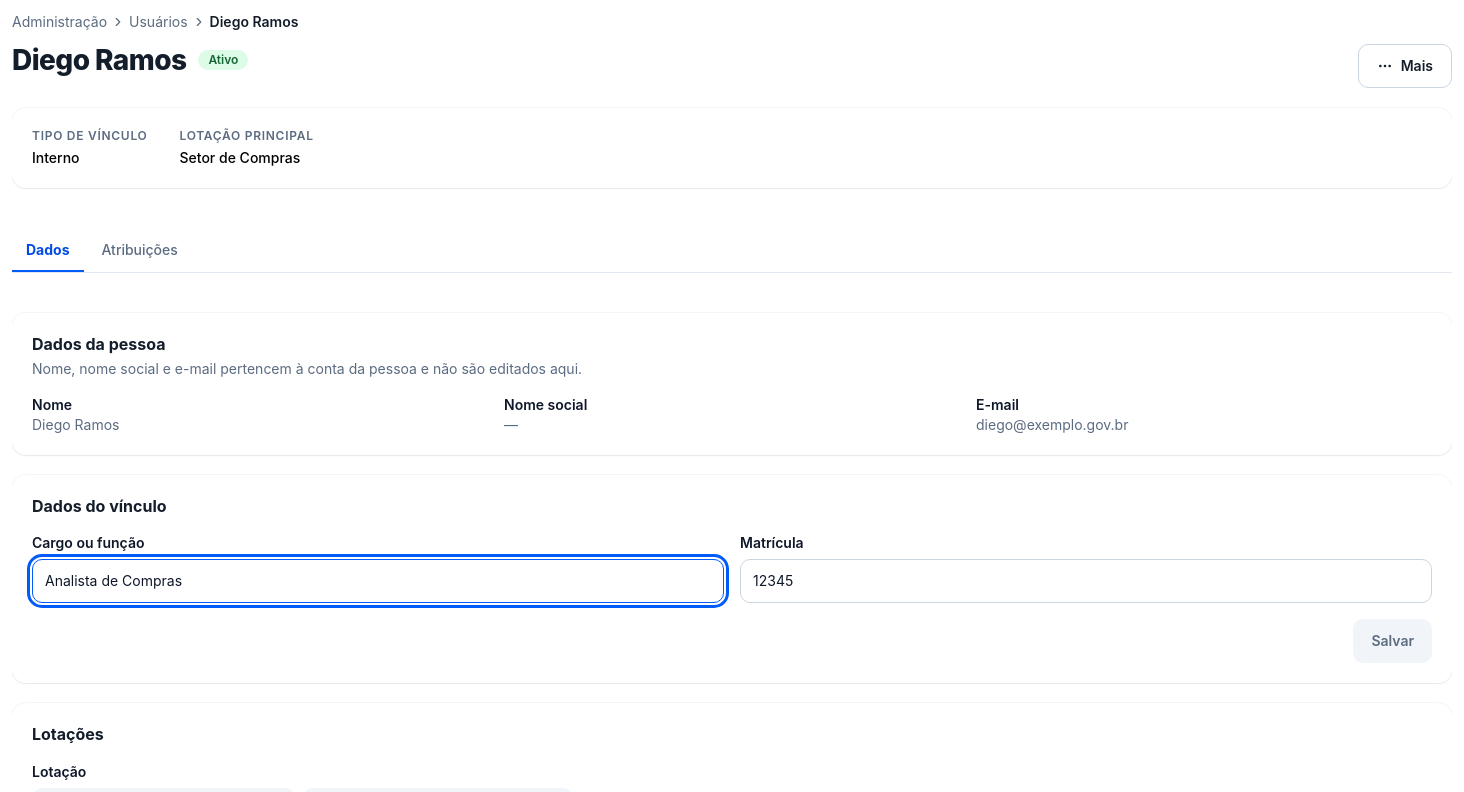
Test: SCR-029 · detalhe do usuário (US-092) › [Sucesso] edita o cargo: PATCH só com o que mudou, If-Match da versão, toast e lista invalidada
Check: the button "Salvar" is disabled, box [1353, 619, 1432, 663]
Replace the text in the field labelled "Cargo ou função" with "Coordenador de Compras" at (378, 581), box [32, 559, 724, 603]
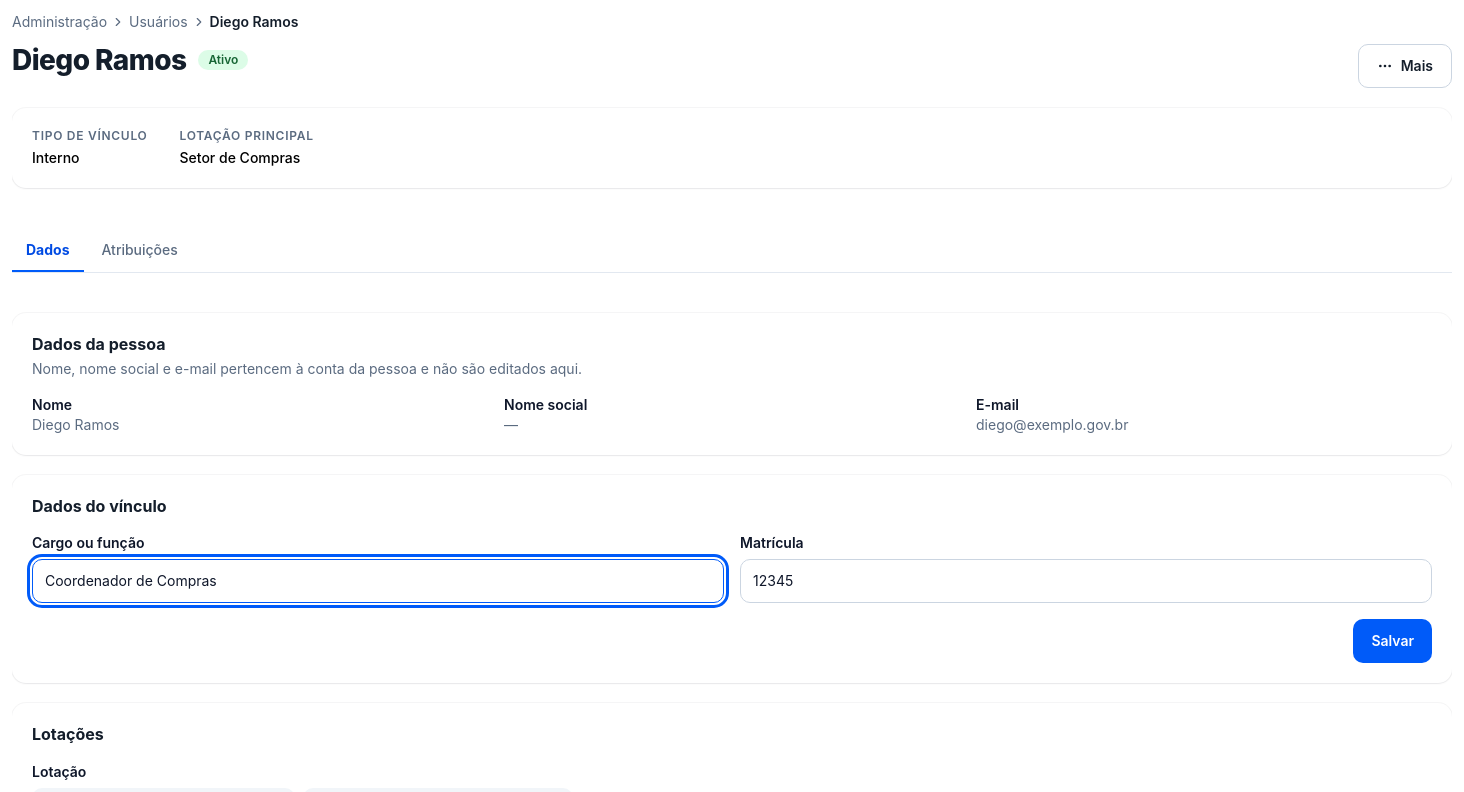
Click the button "Salvar" at (1393, 641), box [1353, 619, 1432, 663]
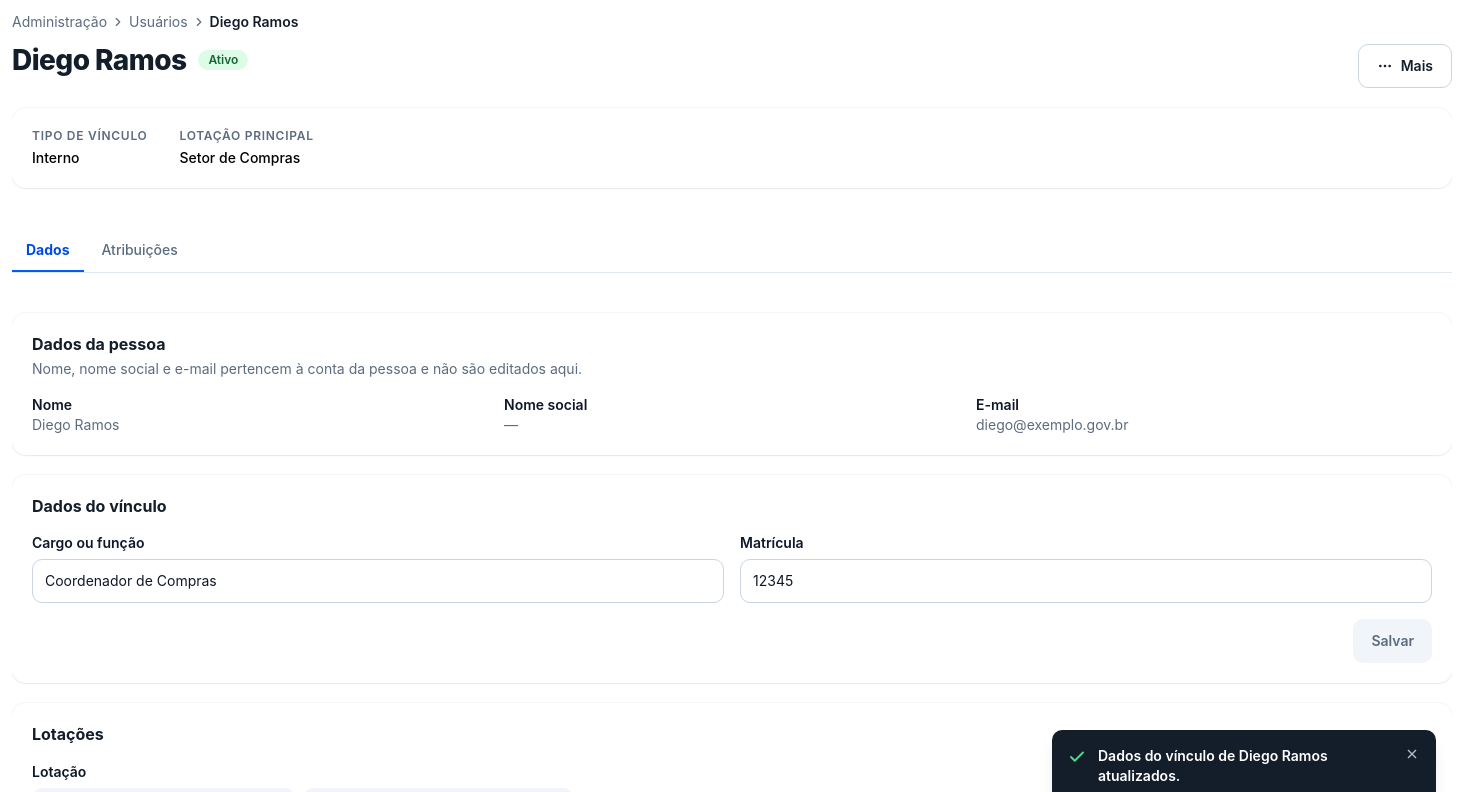
Check: the text "Dados do vínculo de Diego Ramos atualizados." is shown, box [1098, 747, 1328, 784]
Check: the button "Salvar" is disabled, box [1353, 619, 1432, 663]
